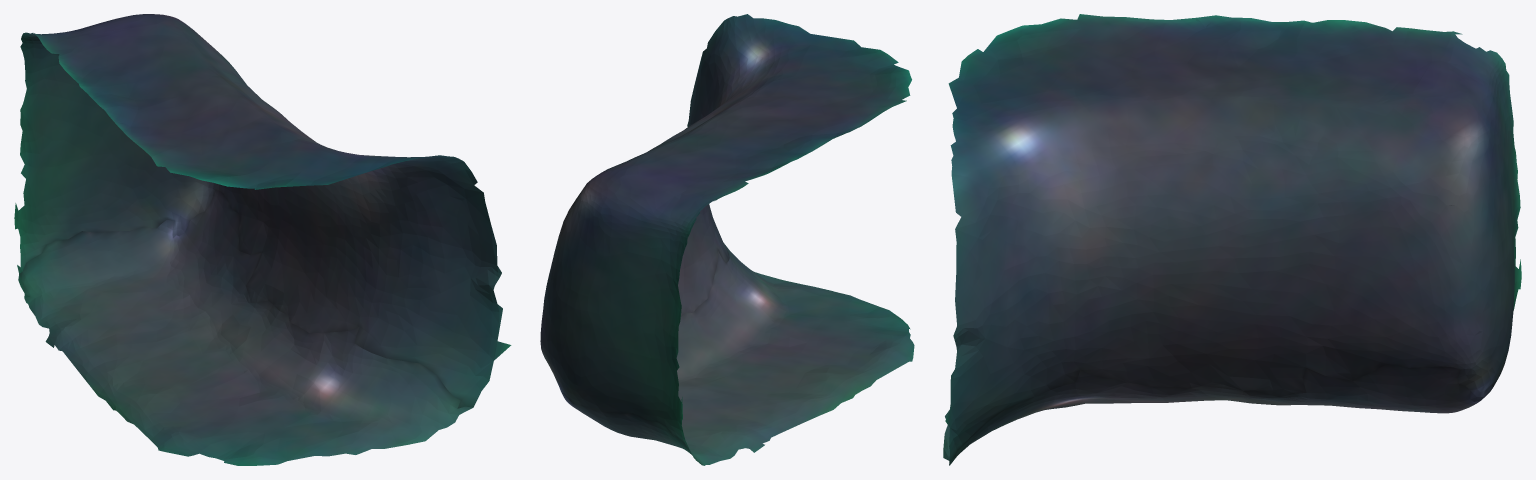
File: trigger.obj
3 renders of one model, left to right at view 1: azimuth 30°, elevation 25°; view 2: azimuth 150°, elevation 25°; view 3: azimuth 270°, elevation 25°, orthographic. The views are drawn at different scales.
Visible parts, largest first — view 1: trigger_wkretmed200k.002; view 2: trigger_wkretmed200k.002; view 3: trigger_wkretmed200k.002.
Part boxes in pixels (x1=…): trigger_wkretmed200k.002: x1=14, y1=14, x2=511, y2=465; trigger_wkretmed200k.002: x1=540, y1=14, x2=914, y2=465; trigger_wkretmed200k.002: x1=943, y1=14, x2=1521, y2=465.
Bounding box in the file's own units: 0.019 × 0.0176 × 0.0276.
1 material, 1 textured.
